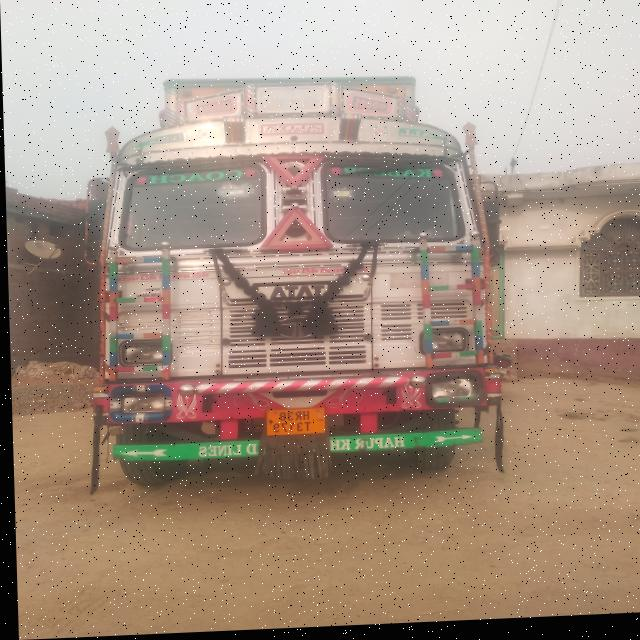plate: (261, 406, 326, 441)
